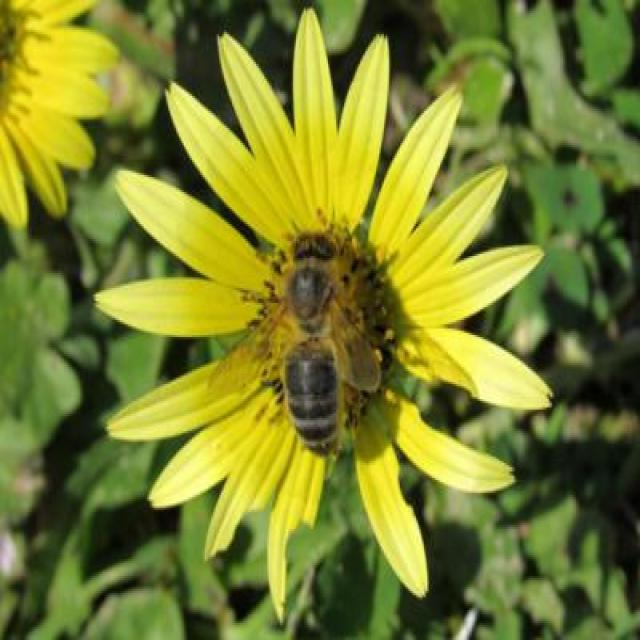body: (285, 230, 347, 460)
insect: (204, 225, 390, 471)
wings: (204, 291, 298, 401), (326, 291, 382, 395)
